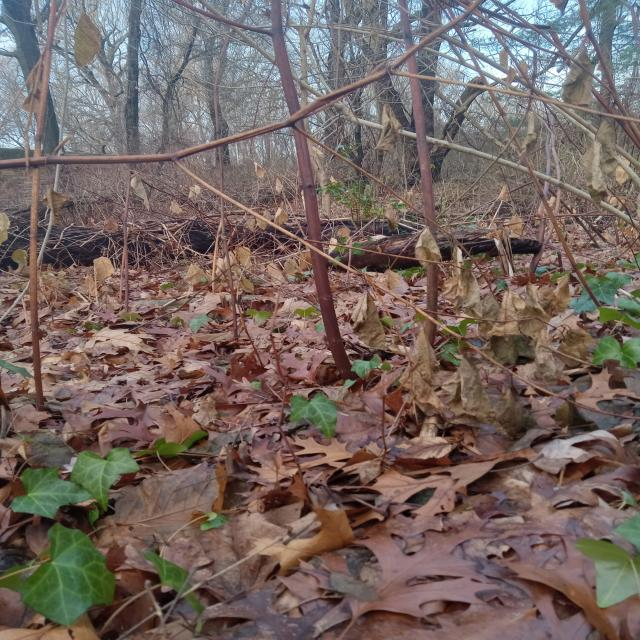knotweed-stems: (267, 0, 353, 378), (401, 10, 444, 358), (28, 67, 62, 411)
